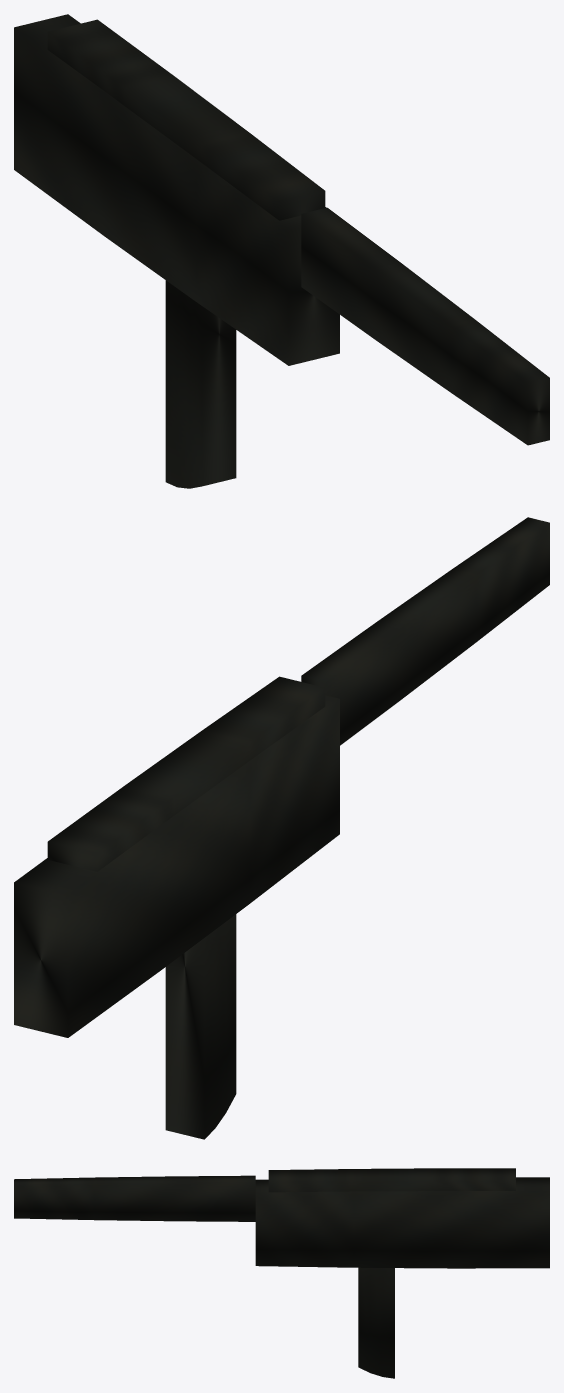
The model's file is wpn_spas12_tactical.glb.
The picture shows the model from 3 angles, top to bottom: view 1: azimuth 30°, elevation 25°; view 2: azimuth 150°, elevation 25°; view 3: azimuth 270°, elevation 25°; orthographic projection. The views are drawn at different scales.
Parts seen in each view (by area): view 1: SubMesh_0_Receiver, SubMesh_3_BarrelSight, SubMesh_1_Action, SubMesh_2_Magazine; view 2: SubMesh_0_Receiver, SubMesh_3_BarrelSight, SubMesh_1_Action, SubMesh_2_Magazine; view 3: SubMesh_0_Receiver, SubMesh_3_BarrelSight, SubMesh_1_Action, SubMesh_2_Magazine.
Part boxes in pixels (left/top/right/bottom): SubMesh_0_Receiver: left=14, top=14, right=339, bottom=365; SubMesh_3_BarrelSight: left=301, top=207, right=549, bottom=445; SubMesh_1_Action: left=47, top=19, right=325, bottom=220; SubMesh_2_Magazine: left=165, top=280, right=236, bottom=488; SubMesh_0_Receiver: left=14, top=695, right=339, bottom=1037; SubMesh_3_BarrelSight: left=301, top=517, right=549, bottom=745; SubMesh_1_Action: left=47, top=676, right=325, bottom=871; SubMesh_2_Magazine: left=165, top=914, right=236, bottom=1139; SubMesh_0_Receiver: left=255, top=1177, right=549, bottom=1268; SubMesh_3_BarrelSight: left=14, top=1175, right=255, bottom=1221; SubMesh_1_Action: left=268, top=1168, right=515, bottom=1192; SubMesh_2_Magazine: left=358, top=1267, right=394, bottom=1378.
Size of the model in its own units: 0.0642 by 0.4177 by 1.02.
Materials: 1 (1 with a texture image).
